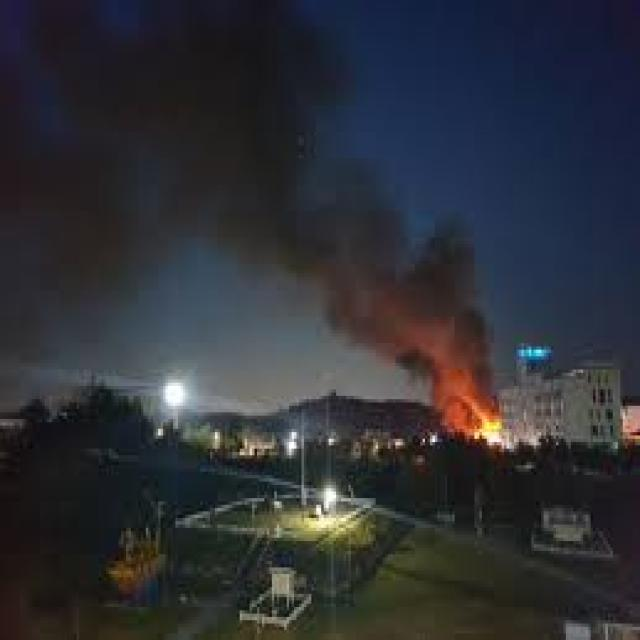explosion: (15, 0, 555, 510)
